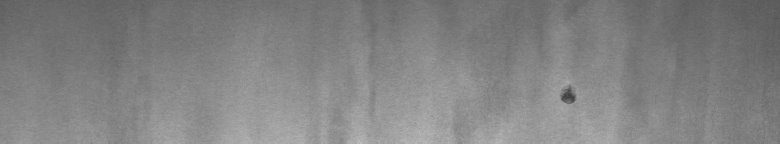fi: (556, 80, 582, 111)
